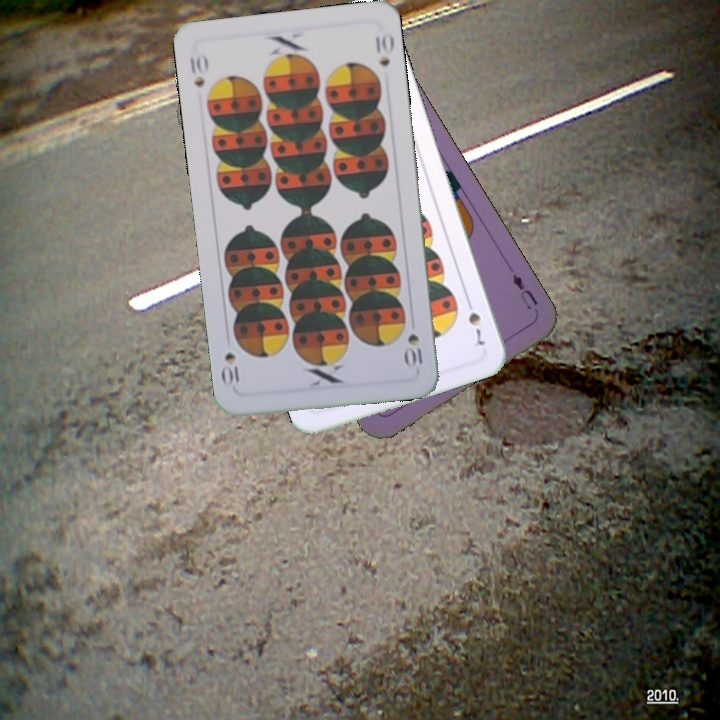EU: (508, 270, 541, 312)
S10: (185, 50, 210, 90), (402, 329, 426, 370)
S7: (462, 294, 488, 352)
